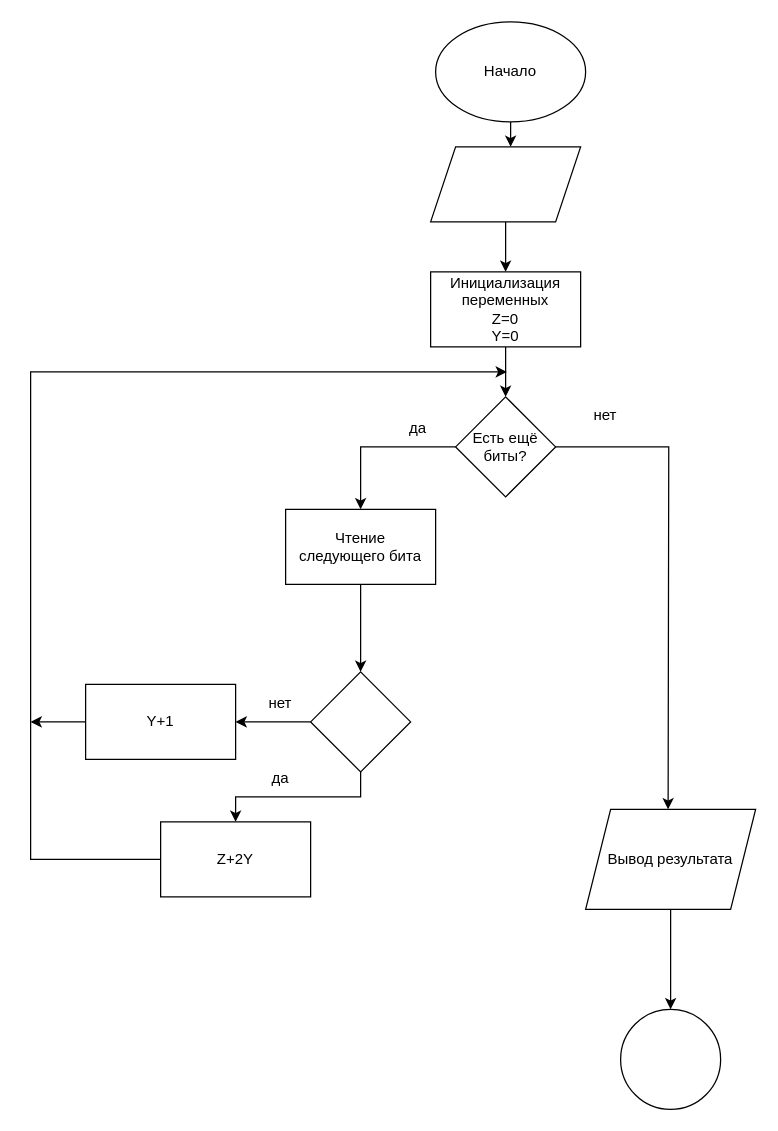
This 778x1131 diagram has some shape labels left out. Each missing label, with the centre of its shape:
Бит = 1?: the point at 360,721
Ввод двоичного числа: the point at 505,184
Конец: the point at 670,1058
